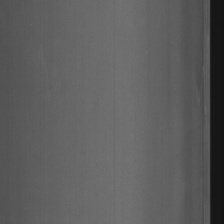silk_spot: (193, 16, 209, 130)
